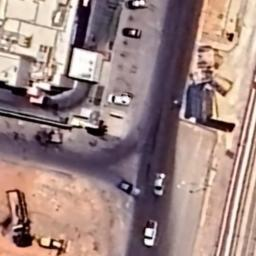SUV: (120, 182, 142, 198), (107, 93, 132, 106), (126, 0, 148, 10)
others: (4, 187, 74, 256)
pickup: (143, 218, 158, 246)
sedan: (154, 172, 166, 196), (122, 28, 142, 39)
